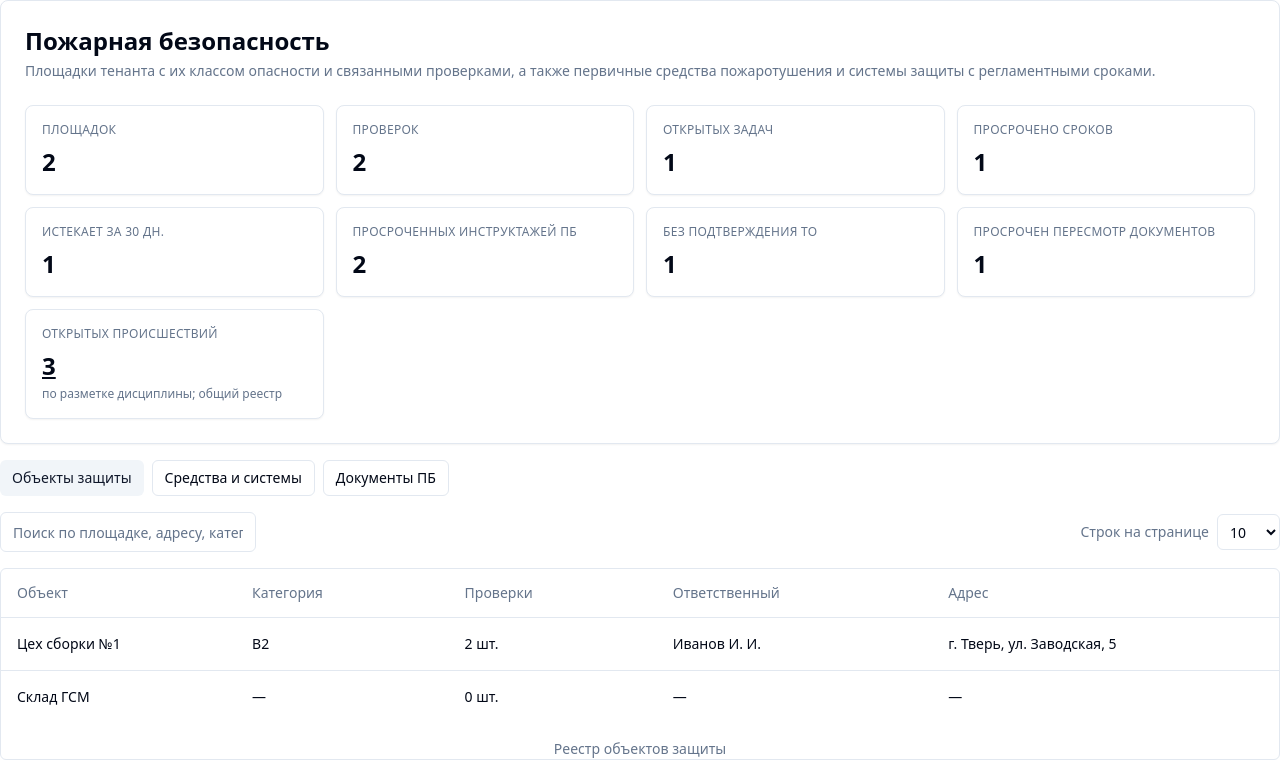
Test: FireSafetyPage › средство заводится с экрана, а не только через API (срез-103)
Click the button "Средства и системы" at x=233, y=478, box [152, 460, 315, 496]
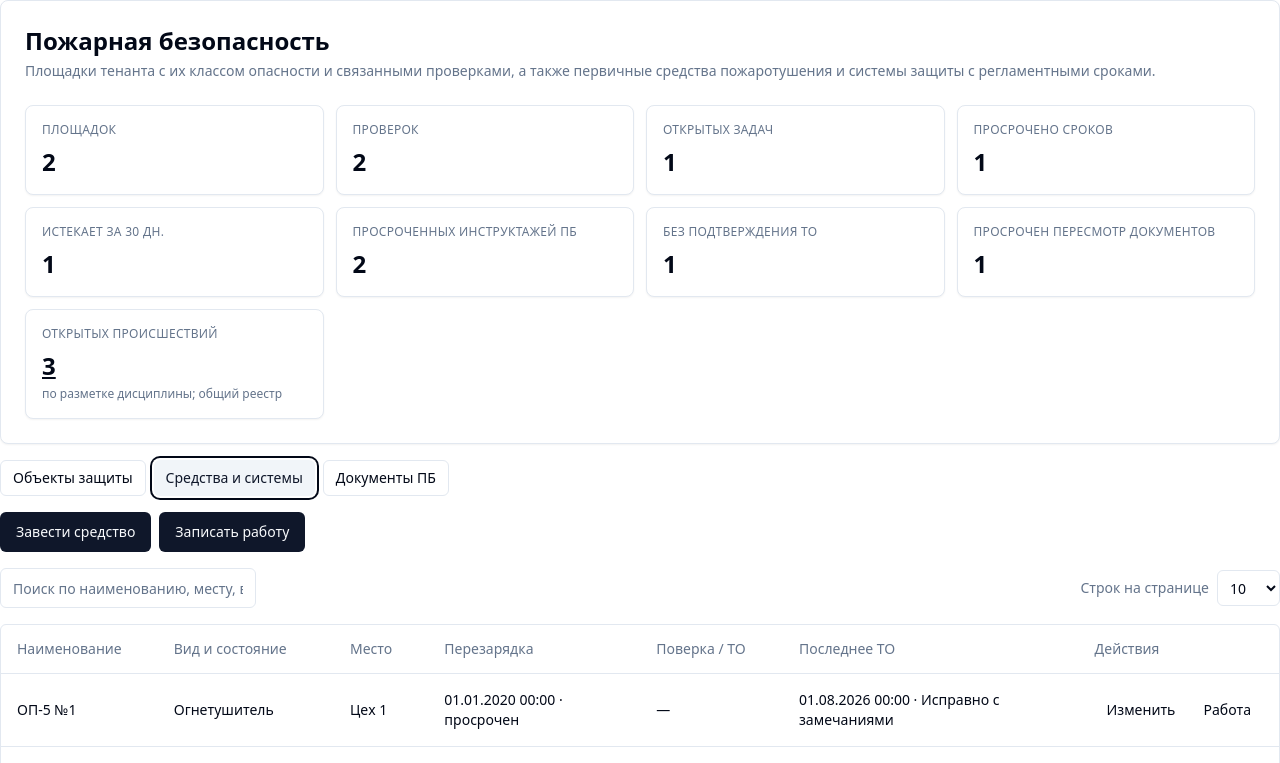
Click the button "Завести средство" at x=76, y=532, box [0, 512, 151, 552]
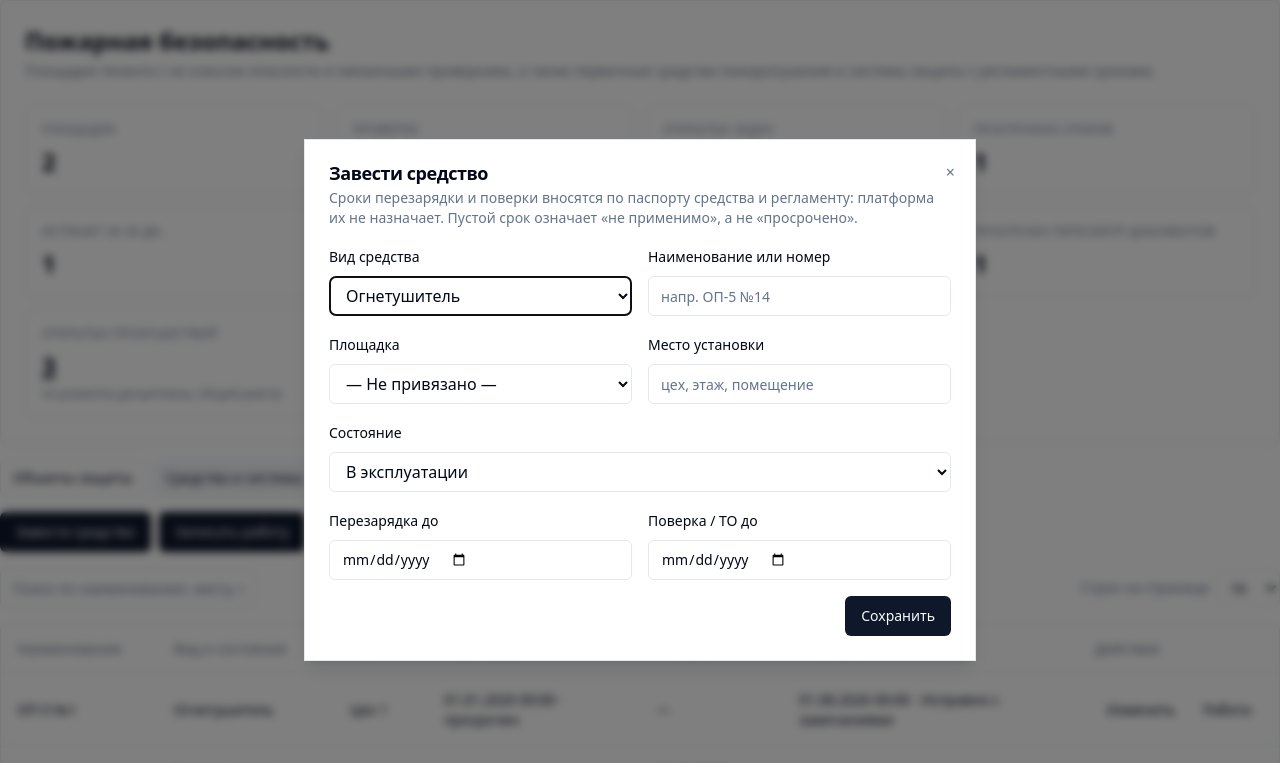
Type "ОП-5 №77" into the field labelled "Наименование или номер" at x=800, y=296, box [648, 276, 951, 316]
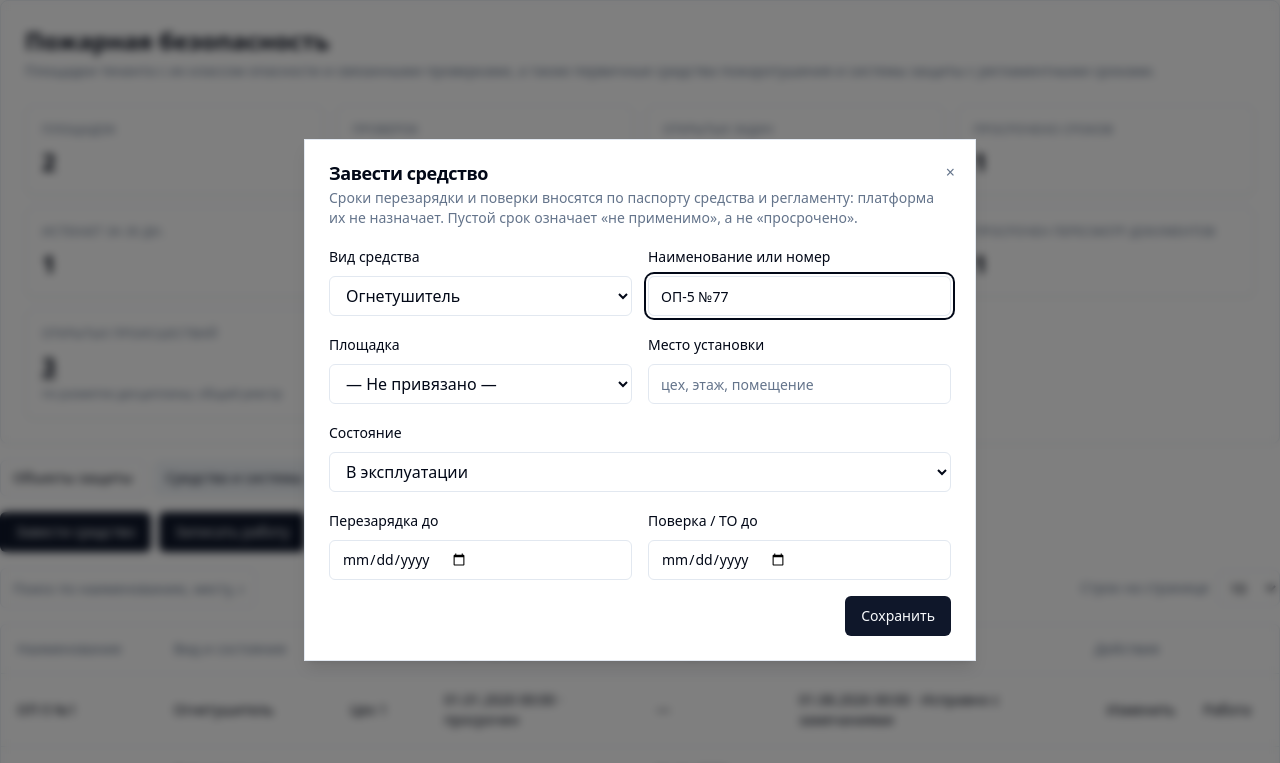
Select "Площадка №1" in the dropdown labelled "Площадка" at x=480, y=384, box [329, 364, 632, 404]
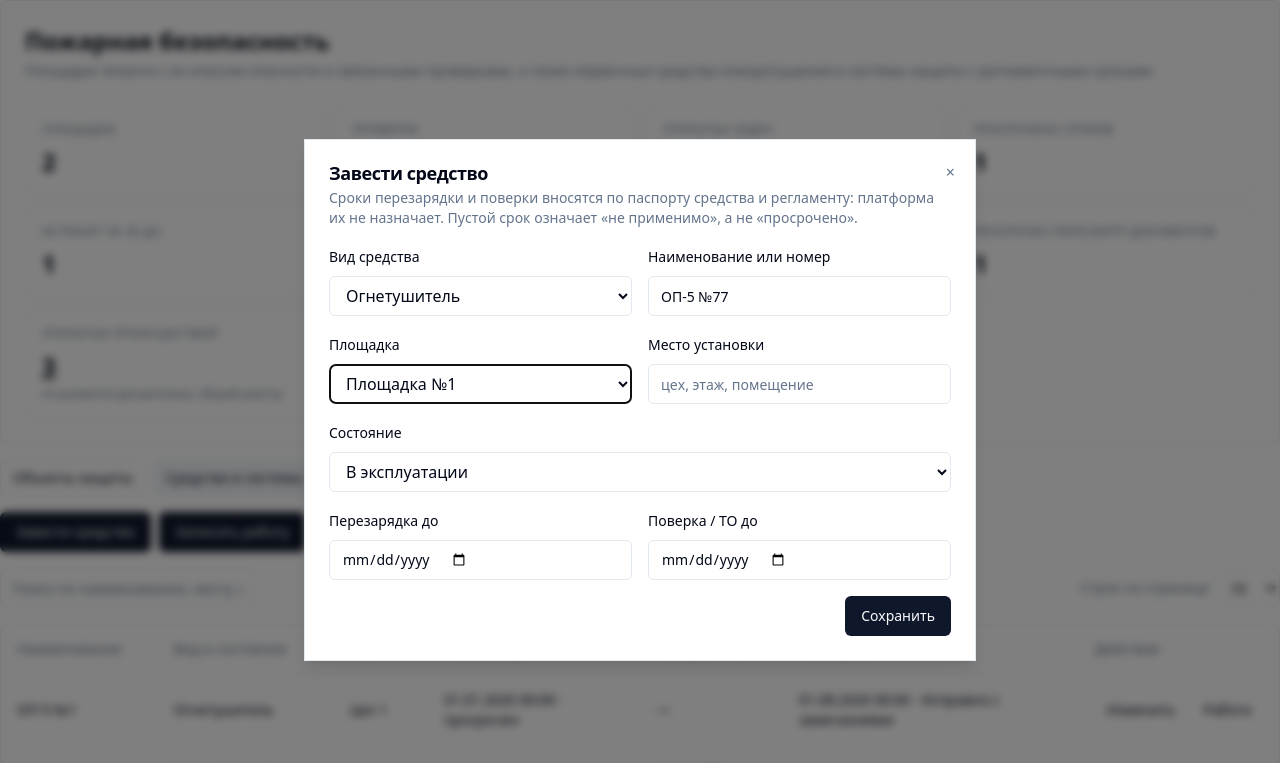
Type "2027-05-01" into the date field labelled "Перезарядка до" at x=480, y=560, box [329, 540, 632, 580]
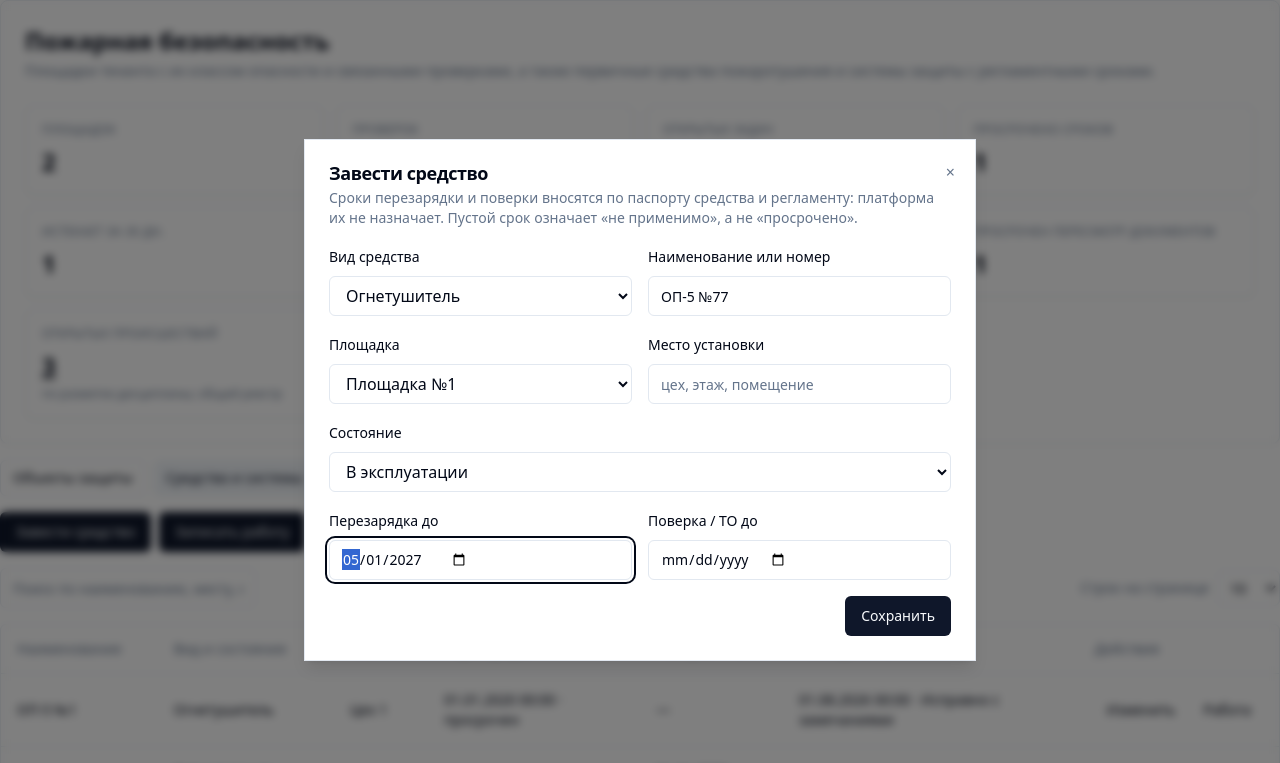
Click the button "Сохранить" at x=898, y=616, box [845, 596, 951, 636]
(page scrolled)
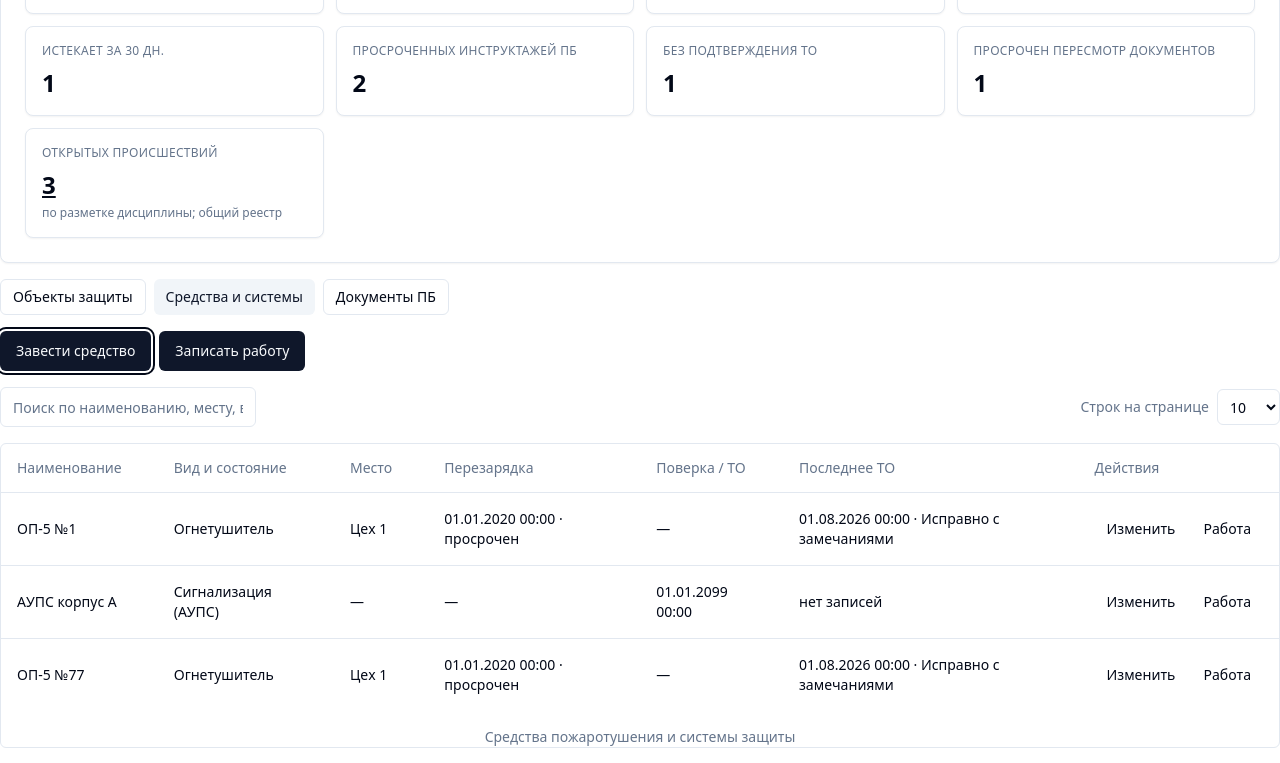
Expected: the text "ОП-5 №77" is shown, [1, 638, 158, 710]
